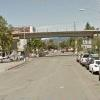Bridge: (11, 19, 97, 47)
